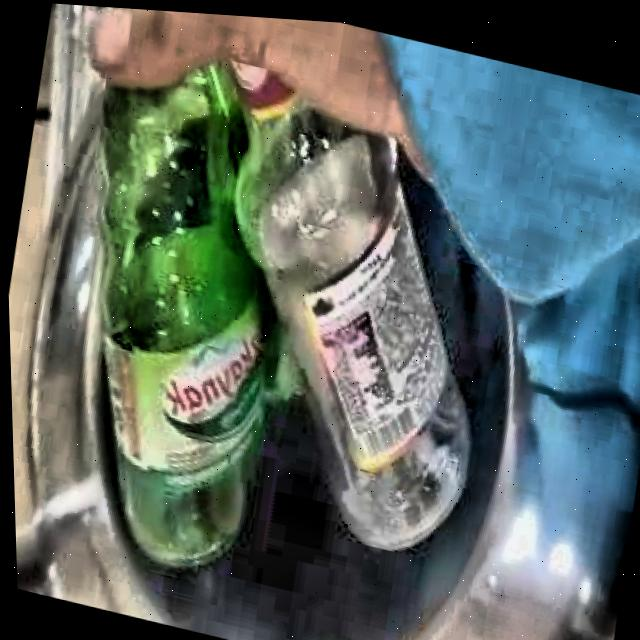glass: (99, 56, 466, 562)
